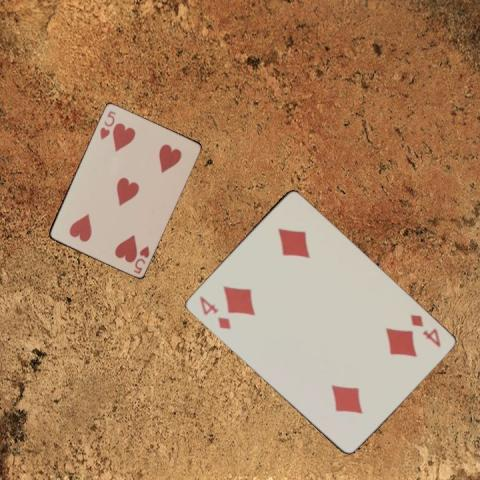4d: (196, 293, 232, 331), (406, 310, 442, 348)
5h: (130, 242, 151, 275), (97, 107, 117, 141)
